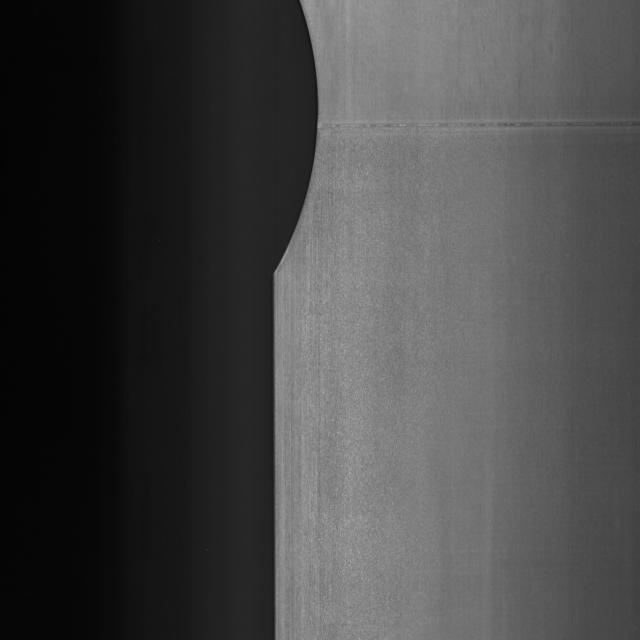crease: (309, 104, 640, 148)
silk_spot: (232, 0, 328, 277)
